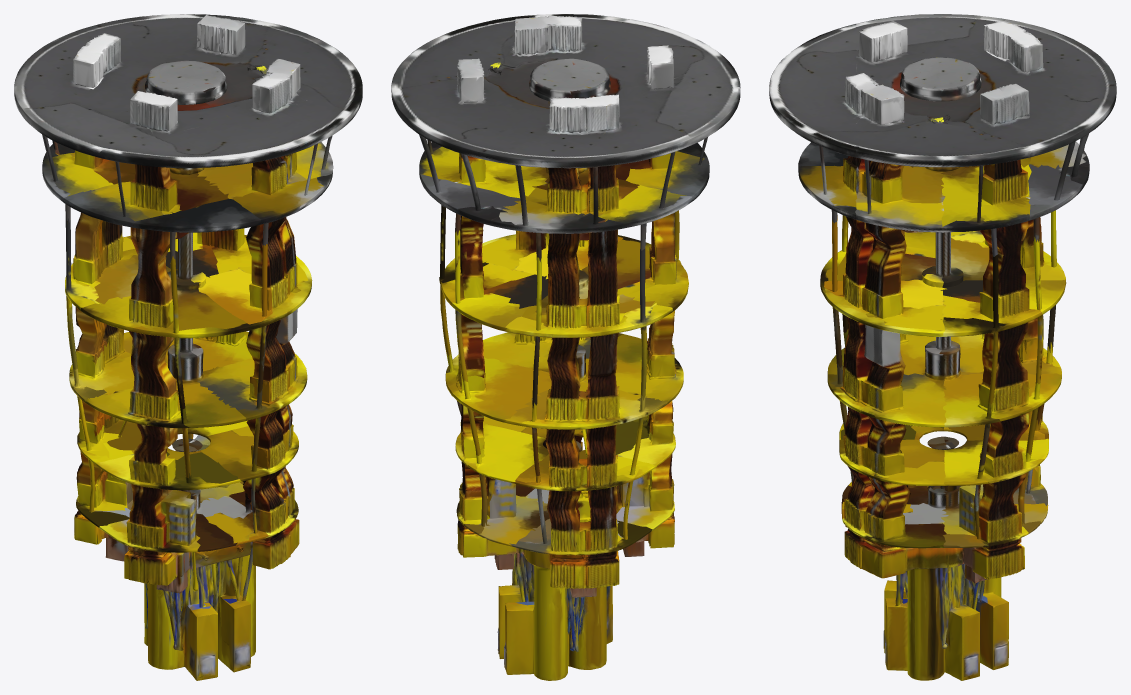
The model's file is technology-11.glb.
The picture shows the model from 3 angles, left to right: view 1: azimuth 30°, elevation 25°; view 2: azimuth 150°, elevation 25°; view 3: azimuth 270°, elevation 25°; orthographic projection.
Size of the model in its own units: 0.8832 by 1.67 by 0.8844.
Materials: 1 (1 with a texture image).
